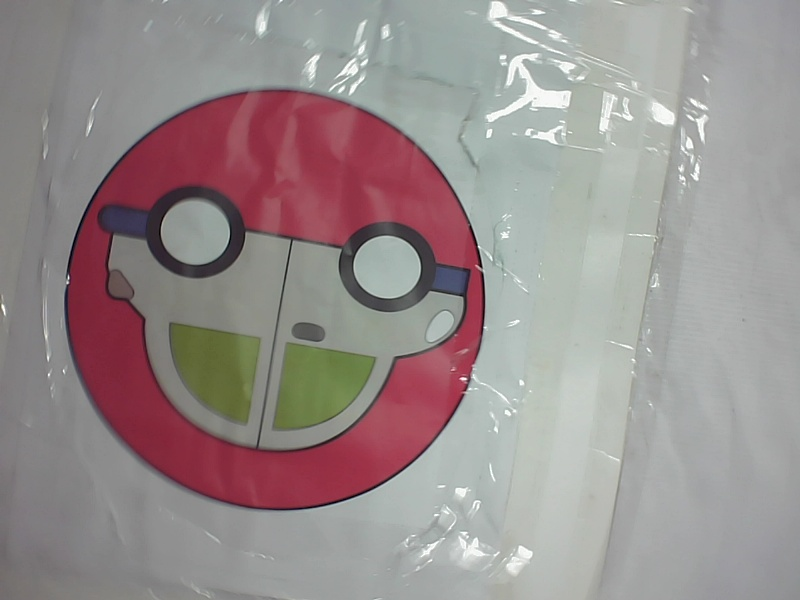areaC: (54, 86, 507, 514)
